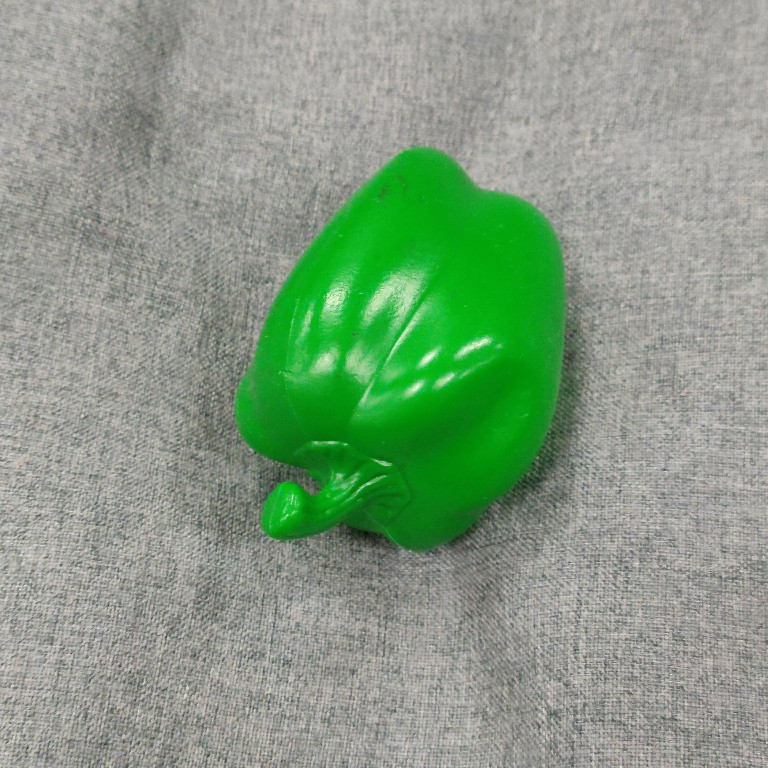fruit_pepper: (229, 141, 572, 562)
